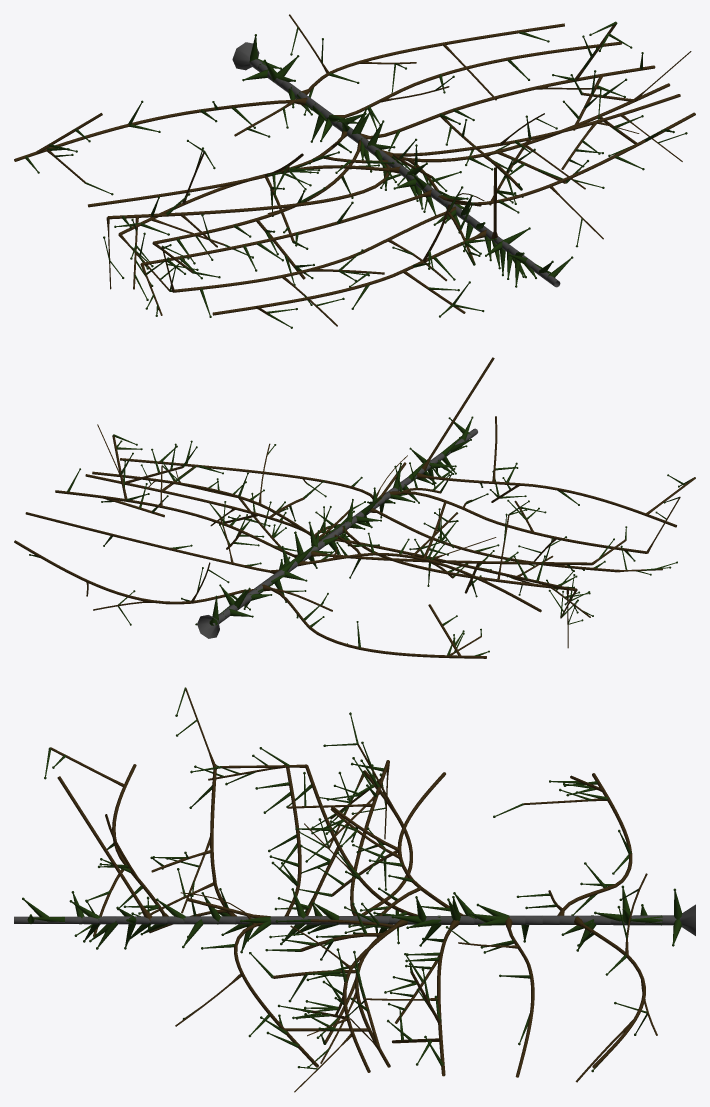
Rendered from tree_2.obj.
3 views of the same model, one above another, from view 1: azimuth 30°, elevation 25°; view 2: azimuth 150°, elevation 25°; view 3: azimuth 270°, elevation 25° (orthographic). The views are drawn at different scales.
Bounding box in the file's own units: 4.55 × 1.25 × 4.
